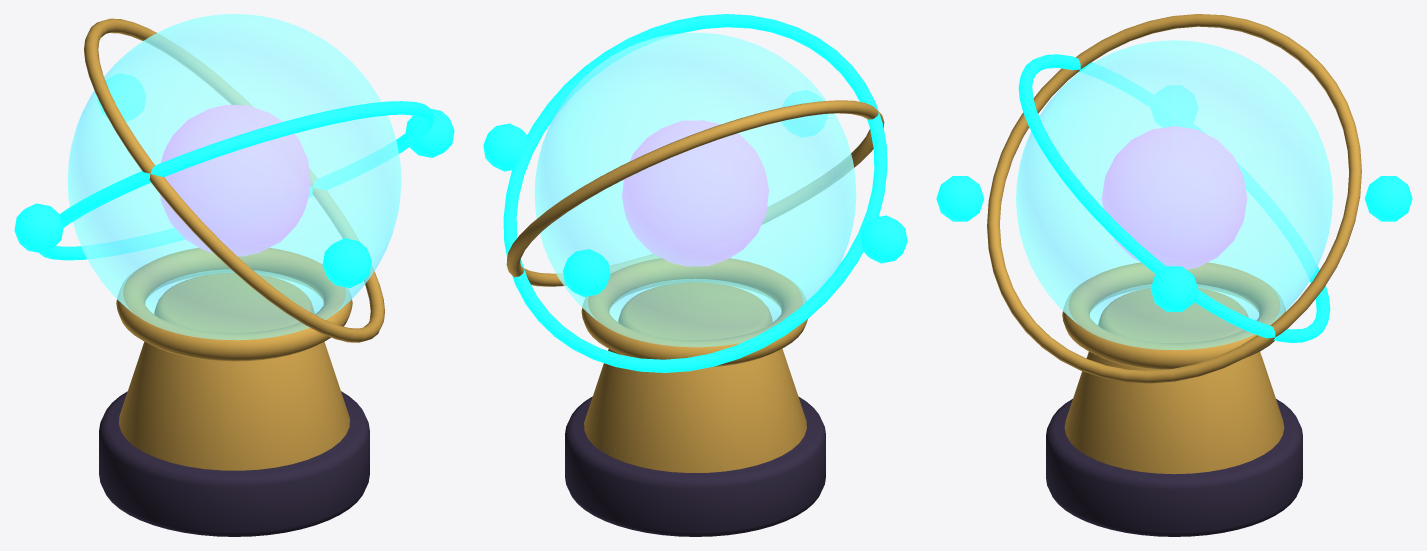
The model's file is crystal_orb.glb.
The picture shows the model from 3 angles, left to right: view 1: azimuth 30°, elevation 25°; view 2: azimuth 150°, elevation 25°; view 3: azimuth 270°, elevation 25°; orthographic projection. The views are drawn at different scales.
Parts seen in each view (by area): view 1: CrystalOrb_OuterGlass, CrystalOrb_Pedestal, CrystalOrb_Base, CrystalOrb_InnerCore, CrystalOrb_CradleRing, CrystalOrb_OrbitA, CrystalOrb_OrbitB, CrystalOrb_Satellite_4, CrystalOrb_Satellite_3, CrystalOrb_Satellite_1, CrystalOrb_Satellite_2; view 2: CrystalOrb_OuterGlass, CrystalOrb_Pedestal, CrystalOrb_Base, CrystalOrb_InnerCore, CrystalOrb_OrbitB, CrystalOrb_CradleRing, CrystalOrb_OrbitA, CrystalOrb_Satellite_3, CrystalOrb_Satellite_2, CrystalOrb_Satellite_1, CrystalOrb_Satellite_4; view 3: CrystalOrb_OuterGlass, CrystalOrb_Pedestal, CrystalOrb_Base, CrystalOrb_InnerCore, CrystalOrb_OrbitA, CrystalOrb_CradleRing, CrystalOrb_OrbitB, CrystalOrb_Satellite_2, CrystalOrb_Satellite_4, CrystalOrb_Satellite_1, CrystalOrb_Satellite_3.
Boxes of the visible parts, x1,y1,x2,y2 form: CrystalOrb_OuterGlass: [67, 14, 401, 340]; CrystalOrb_Pedestal: [119, 273, 349, 470]; CrystalOrb_Base: [99, 391, 369, 536]; CrystalOrb_InnerCore: [160, 105, 310, 256]; CrystalOrb_CradleRing: [116, 248, 352, 361]; CrystalOrb_OrbitA: [84, 18, 384, 342]; CrystalOrb_OrbitB: [39, 101, 433, 260]; CrystalOrb_Satellite_4: [322, 238, 371, 288]; CrystalOrb_Satellite_3: [14, 203, 63, 253]; CrystalOrb_Satellite_1: [405, 108, 454, 157]; CrystalOrb_Satellite_2: [97, 73, 145, 121]; CrystalOrb_OuterGlass: [534, 32, 856, 347]; CrystalOrb_Pedestal: [584, 282, 806, 472]; CrystalOrb_Base: [565, 396, 825, 536]; CrystalOrb_InnerCore: [622, 120, 768, 266]; CrystalOrb_OrbitB: [503, 14, 887, 372]; CrystalOrb_CradleRing: [581, 258, 807, 367]; CrystalOrb_OrbitA: [506, 100, 884, 286]; CrystalOrb_Satellite_3: [860, 215, 907, 263]; CrystalOrb_Satellite_2: [563, 249, 610, 296]; CrystalOrb_Satellite_1: [483, 123, 527, 171]; CrystalOrb_Satellite_4: [782, 90, 827, 137]; CrystalOrb_OuterGlass: [1016, 40, 1332, 349]; CrystalOrb_Pedestal: [1064, 288, 1284, 474]; CrystalOrb_Base: [1046, 399, 1302, 536]; CrystalOrb_InnerCore: [1101, 126, 1247, 269]; CrystalOrb_OrbitA: [987, 14, 1361, 383]; CrystalOrb_CradleRing: [1062, 262, 1285, 369]; CrystalOrb_OrbitB: [1018, 54, 1330, 343]; CrystalOrb_Satellite_2: [1364, 176, 1412, 221]; CrystalOrb_Satellite_4: [936, 176, 984, 221]; CrystalOrb_Satellite_1: [1150, 266, 1198, 311]; CrystalOrb_Satellite_3: [1151, 85, 1197, 127].
Bounding box in the file's own units: 0.5533 × 0.555 × 0.556.
